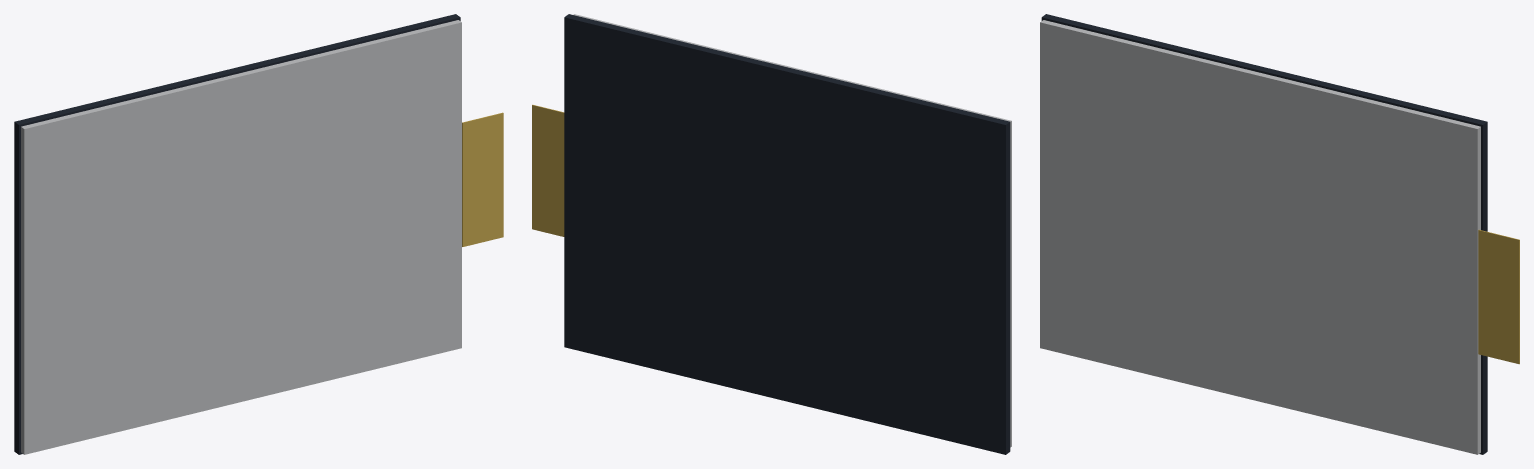
The model's file is screen_panel.glb.
3 renders of one model, left to right at view 1: azimuth 30°, elevation 25°; view 2: azimuth 150°, elevation 25°; view 3: azimuth 330°, elevation 25°, orthographic.
Visible parts, largest first — view 1: c1, c0, c2; view 2: c0, c2, c1; view 3: c1, c2, c0.
Boxes of the visible parts, x1=… form: c1: x1=21, y1=20, x2=461, y2=454; c0: x1=14, y1=14, x2=460, y2=454; c2: x1=462, y1=112, x2=503, y2=246; c0: x1=564, y1=14, x2=1010, y2=454; c2: x1=532, y1=104, x2=564, y2=236; c1: x1=573, y1=14, x2=1011, y2=447; c1: x1=1040, y1=20, x2=1480, y2=454; c2: x1=1478, y1=229, x2=1519, y2=364; c0: x1=1041, y1=14, x2=1487, y2=454.
Size of the model in its own units: 72.95 by 47.8 by 2.1.
